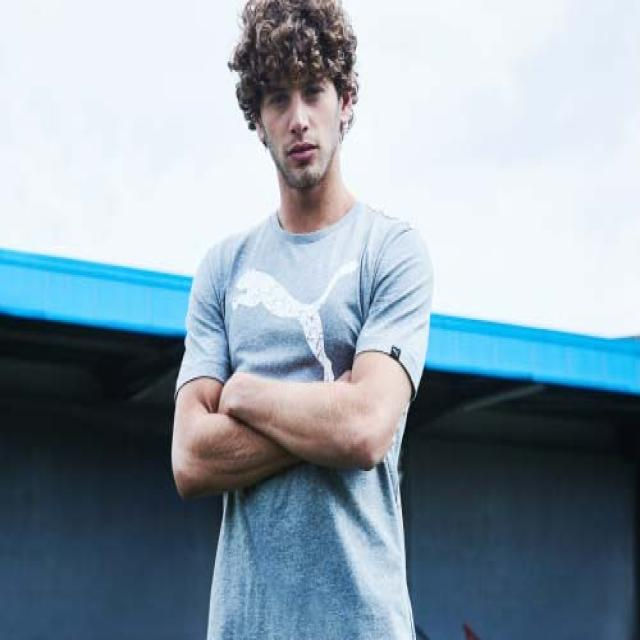human: (160, 1, 464, 640)
